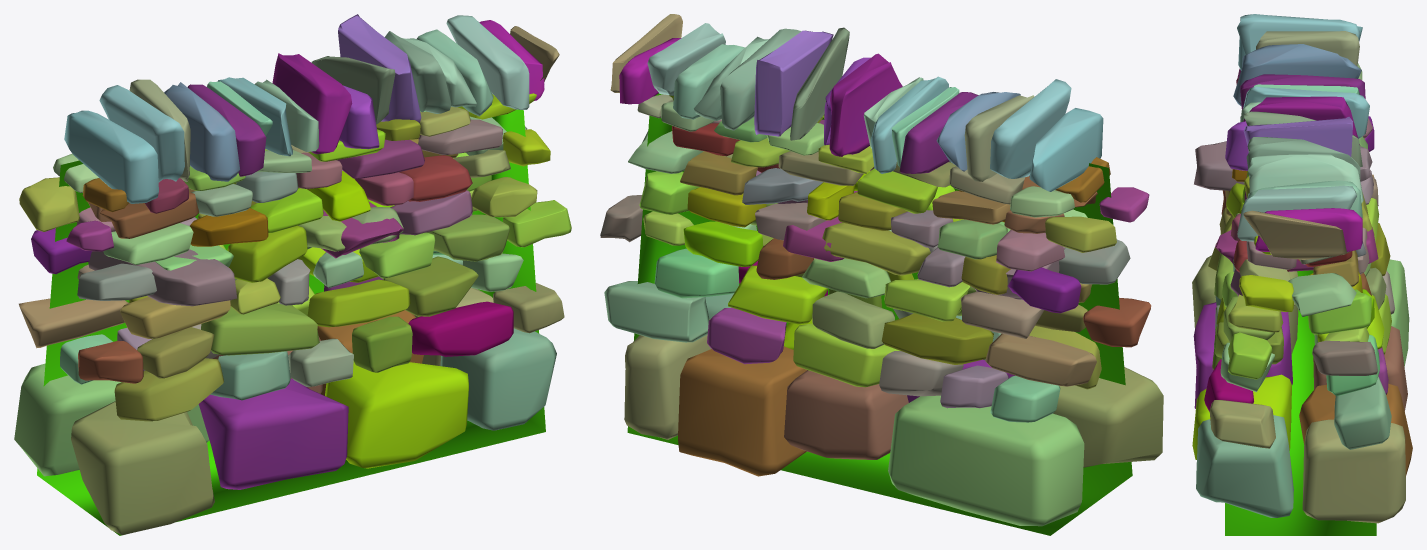
Rendered from SM_Wall_H.glb.
The picture shows the model from 3 angles, left to right: view 1: azimuth 30°, elevation 25°; view 2: azimuth 150°, elevation 25°; view 3: azimuth 270°, elevation 25°; orthographic projection. The views are drawn at different scales.
Parts seen in each view (by area): view 1: SM_Wall_H; view 2: SM_Wall_H; view 3: SM_Wall_H.
Boxes of the visible parts, x1,y1,x2,y2 form: SM_Wall_H: (14, 14, 571, 535); SM_Wall_H: (600, 14, 1163, 535); SM_Wall_H: (1192, 14, 1412, 535).
Size of the model in its own units: 2.27 by 1.76 by 0.9618.
